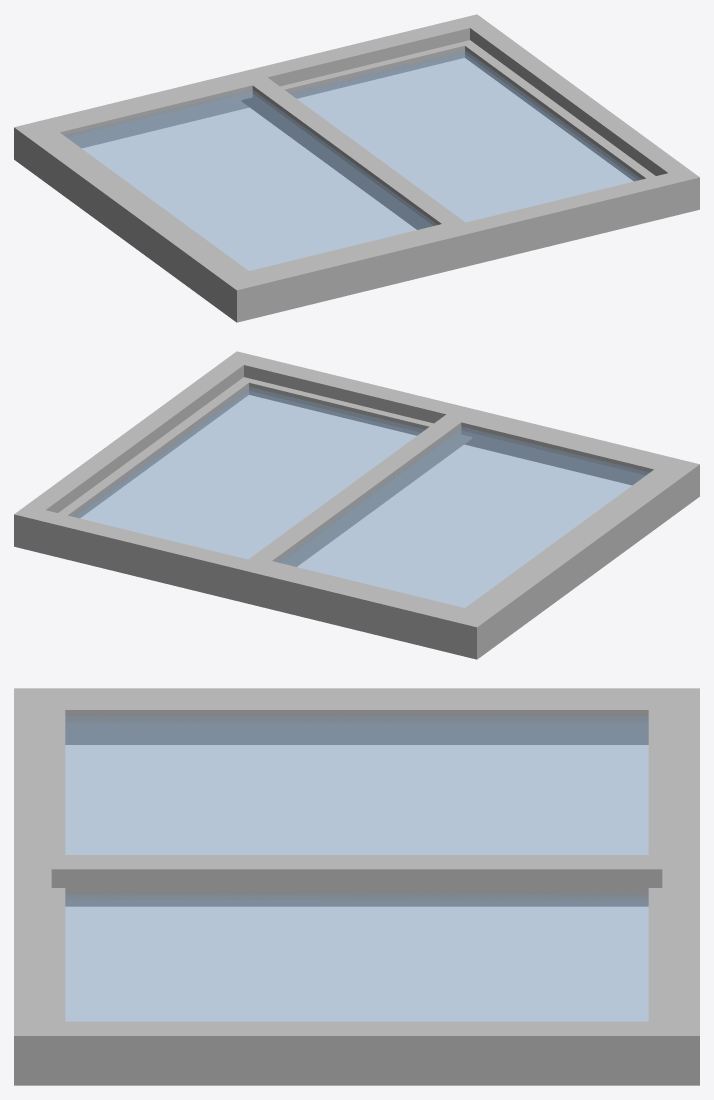
3 renders of one model, top to bottom at view 1: azimuth 30°, elevation 25°; view 2: azimuth 150°, elevation 25°; view 3: azimuth 270°, elevation 25°, orthographic. The views are drawn at different scales.
Visible parts, largest first — view 1: 0_3_1_2_2_2_2_2_3_1; view 2: 0_3_1_2_2_2_2_2_3_1; view 3: 0_3_1_2_2_2_2_2_3_1.
Boxes of the visible parts, <box> form: 0_3_1_2_2_2_2_2_3_1: <box>14,14,699,322</box>; 0_3_1_2_2_2_2_2_3_1: <box>14,351,699,659</box>; 0_3_1_2_2_2_2_2_3_1: <box>14,688,699,1085</box>.
Size of the model in its own units: 1.2 by 0.08 by 1.
